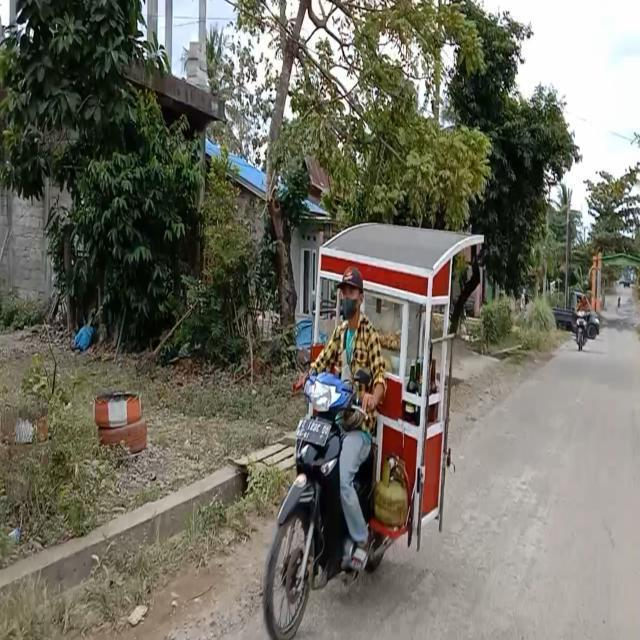motorcycle: (256, 222, 478, 634)
